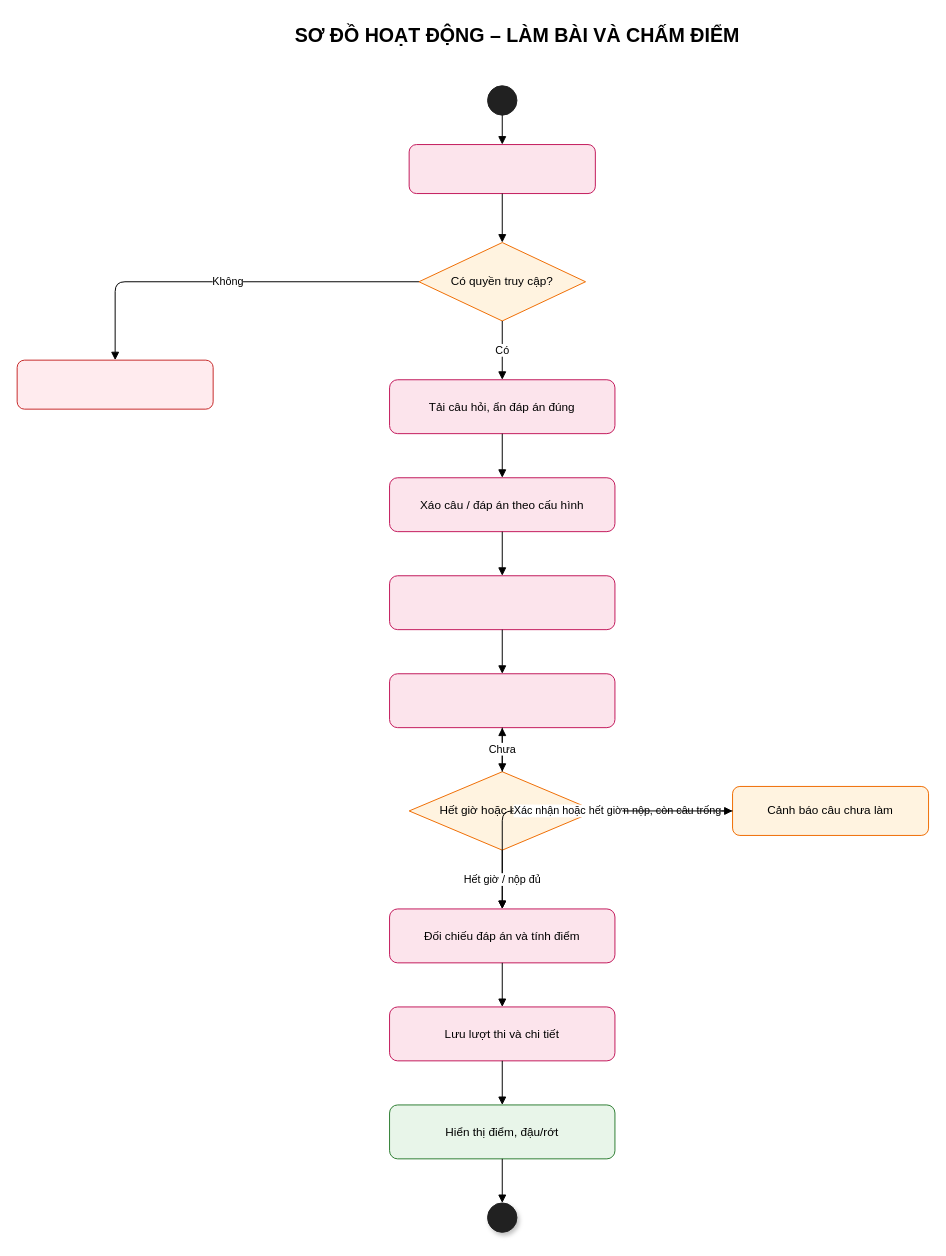
Image size: 946x1256. Some labels were removed from this diagram. The centre of each missing label's shape, as x and y in pixels:
Báo lỗi không được phép: (114,384)
Chọn đáp án: (502,700)
Chọn đề thi: (501,169)
Hiển thị bài thi và đồng hồ: (502,602)
